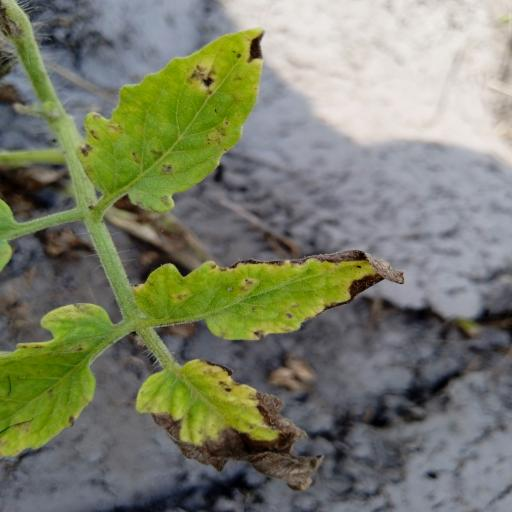Tomato_Brown_Spots: (78, 24, 267, 226), (132, 243, 417, 348), (132, 356, 341, 498)
